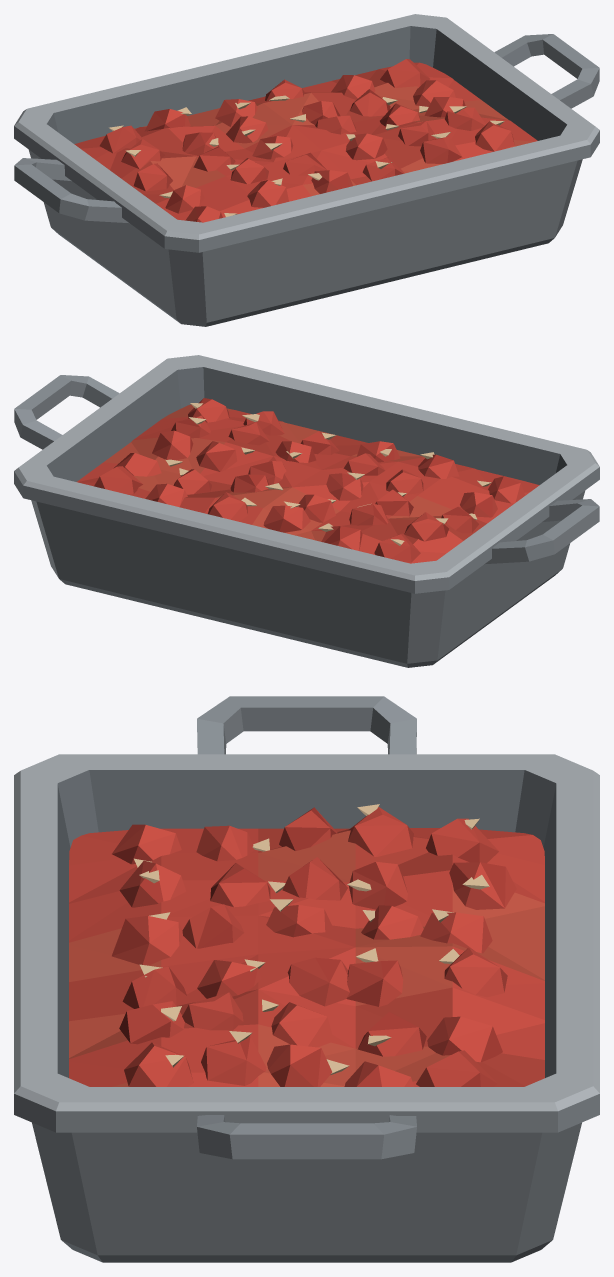
The model's file is FMS_Workshop_PRD_05.fbx.
The picture shows the model from 3 angles, top to bottom: view 1: azimuth 30°, elevation 25°; view 2: azimuth 150°, elevation 25°; view 3: azimuth 270°, elevation 25°; orthographic projection. The views are drawn at different scales.
Visible parts, largest first — view 1: FMS_Workshop_PRD_05_Body; view 2: FMS_Workshop_PRD_05_Body; view 3: FMS_Workshop_PRD_05_Body.
Boxes of the visible parts, x1=… form: FMS_Workshop_PRD_05_Body: x1=14, y1=14, x2=599, y2=326; FMS_Workshop_PRD_05_Body: x1=14, y1=355, x2=599, y2=667; FMS_Workshop_PRD_05_Body: x1=14, y1=696, x2=599, y2=1262.
Size of the model in its own units: 0.6208 by 0.1284 by 0.35.
